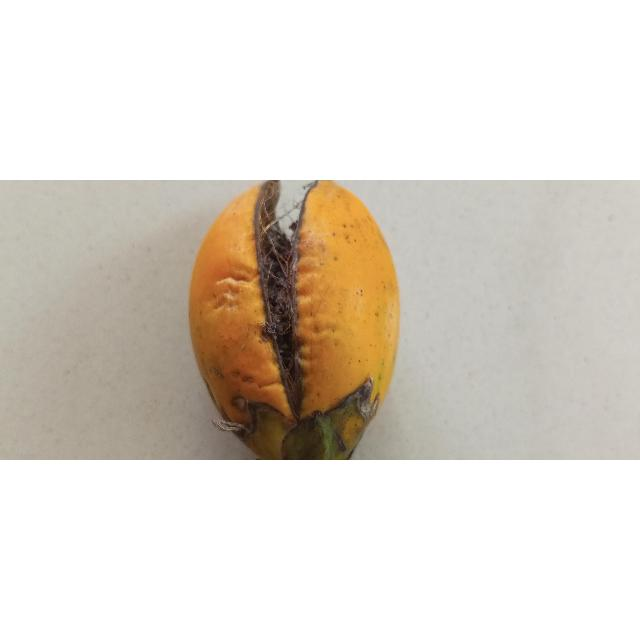damaged: (189, 180, 399, 461)
